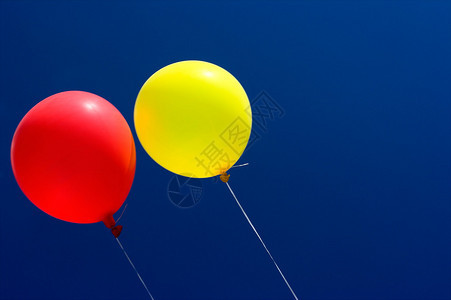balloon: (11, 91, 150, 294), (134, 61, 251, 177)
